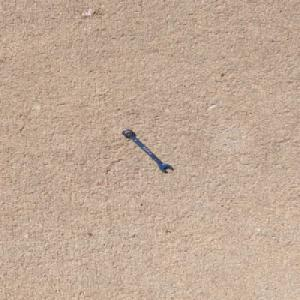Wrench: (120, 129, 173, 172)
